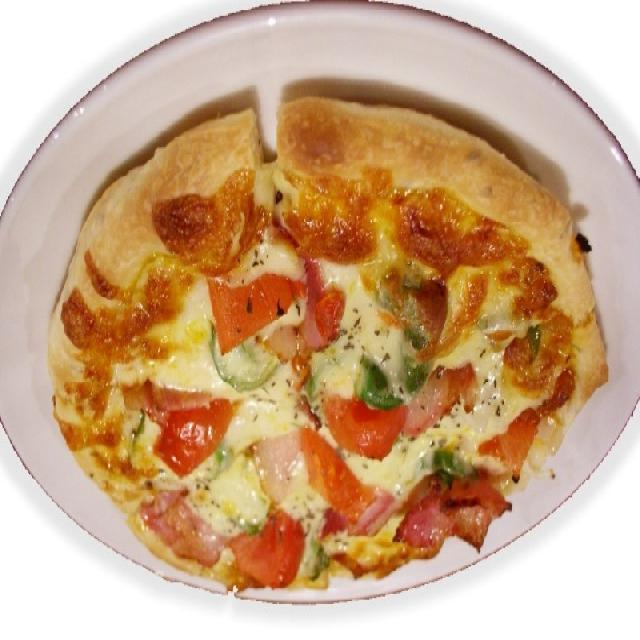Pizza: (42, 96, 592, 620)
